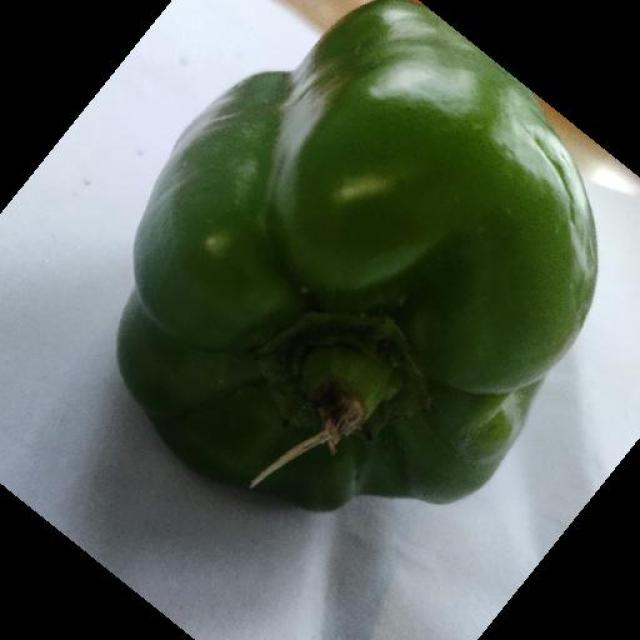Fresh_Capsicum: (145, 38, 574, 494)
